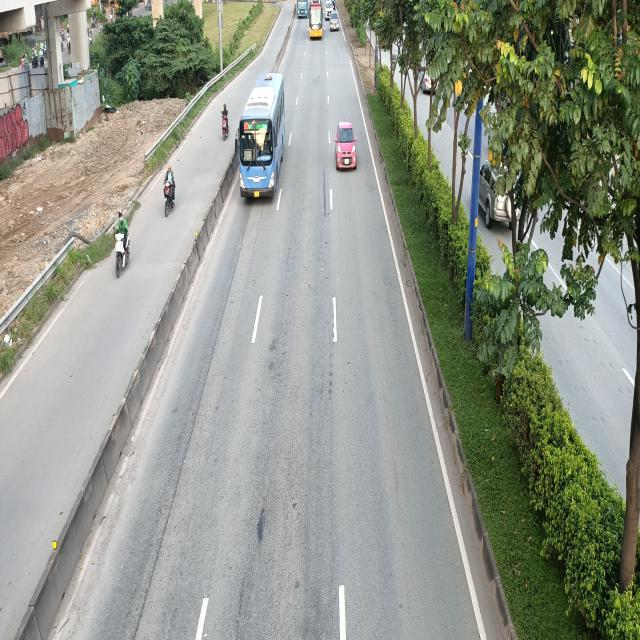car: (336, 122, 360, 171)
coach: (233, 75, 284, 201), (309, 0, 324, 40)
